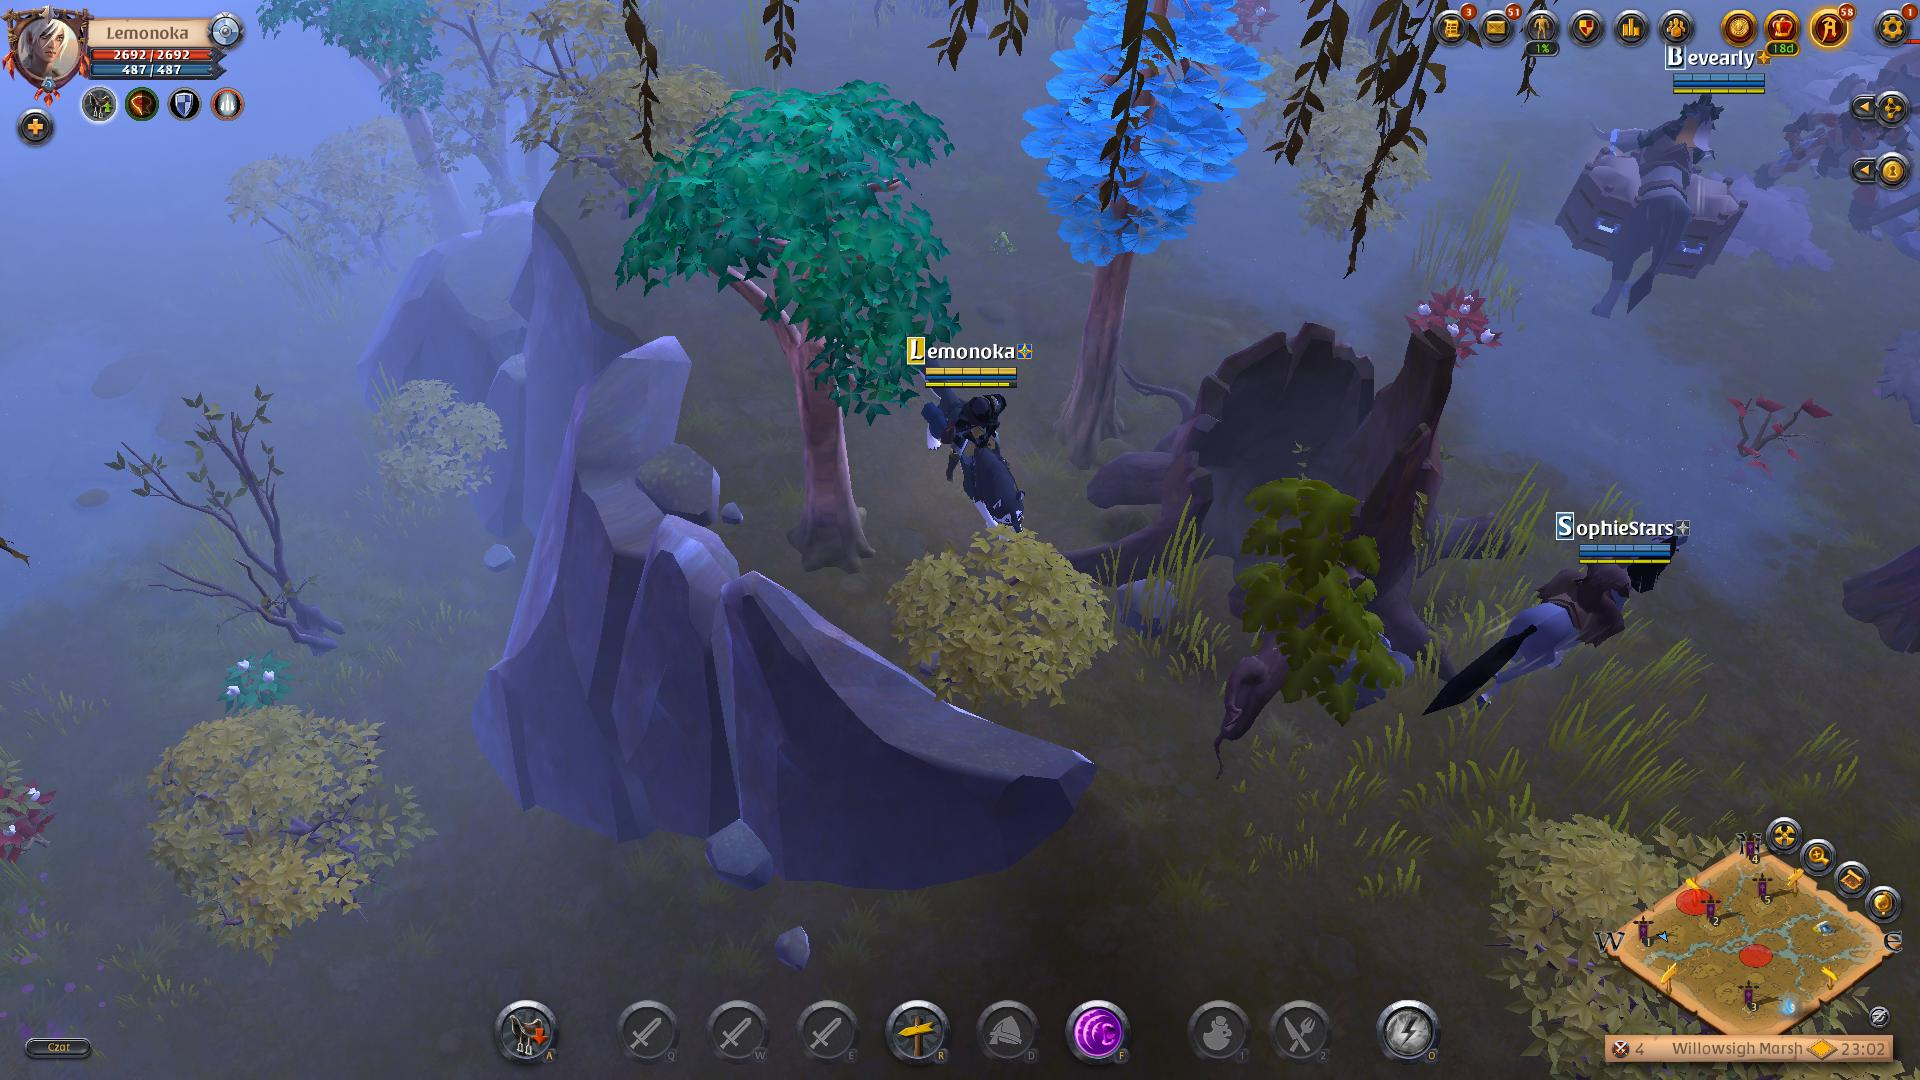fiber tier 3: (214, 650, 291, 719)
fiber tier 5: (1404, 282, 1505, 368)
wood tier 3: (615, 75, 909, 411)
